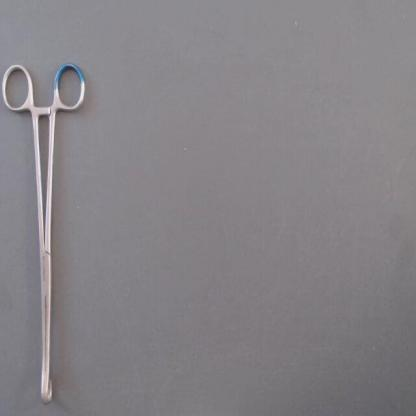Sponge Forceps: (1, 56, 94, 406)
